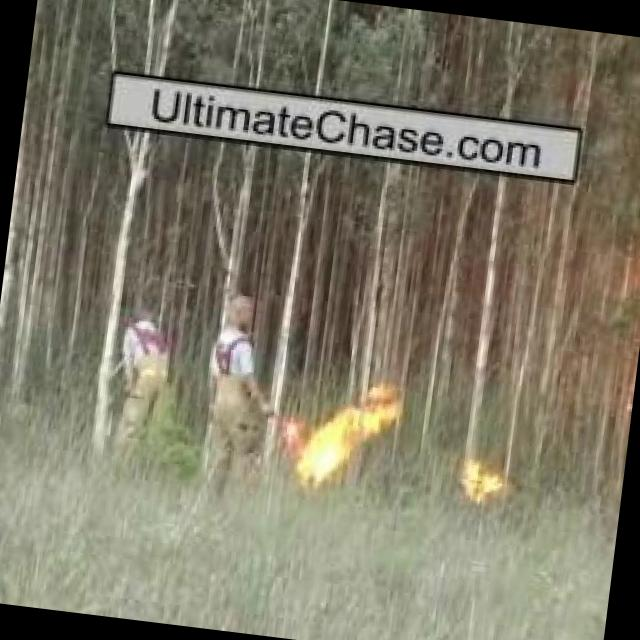Fire: (294, 381, 402, 491), (457, 454, 511, 508)
